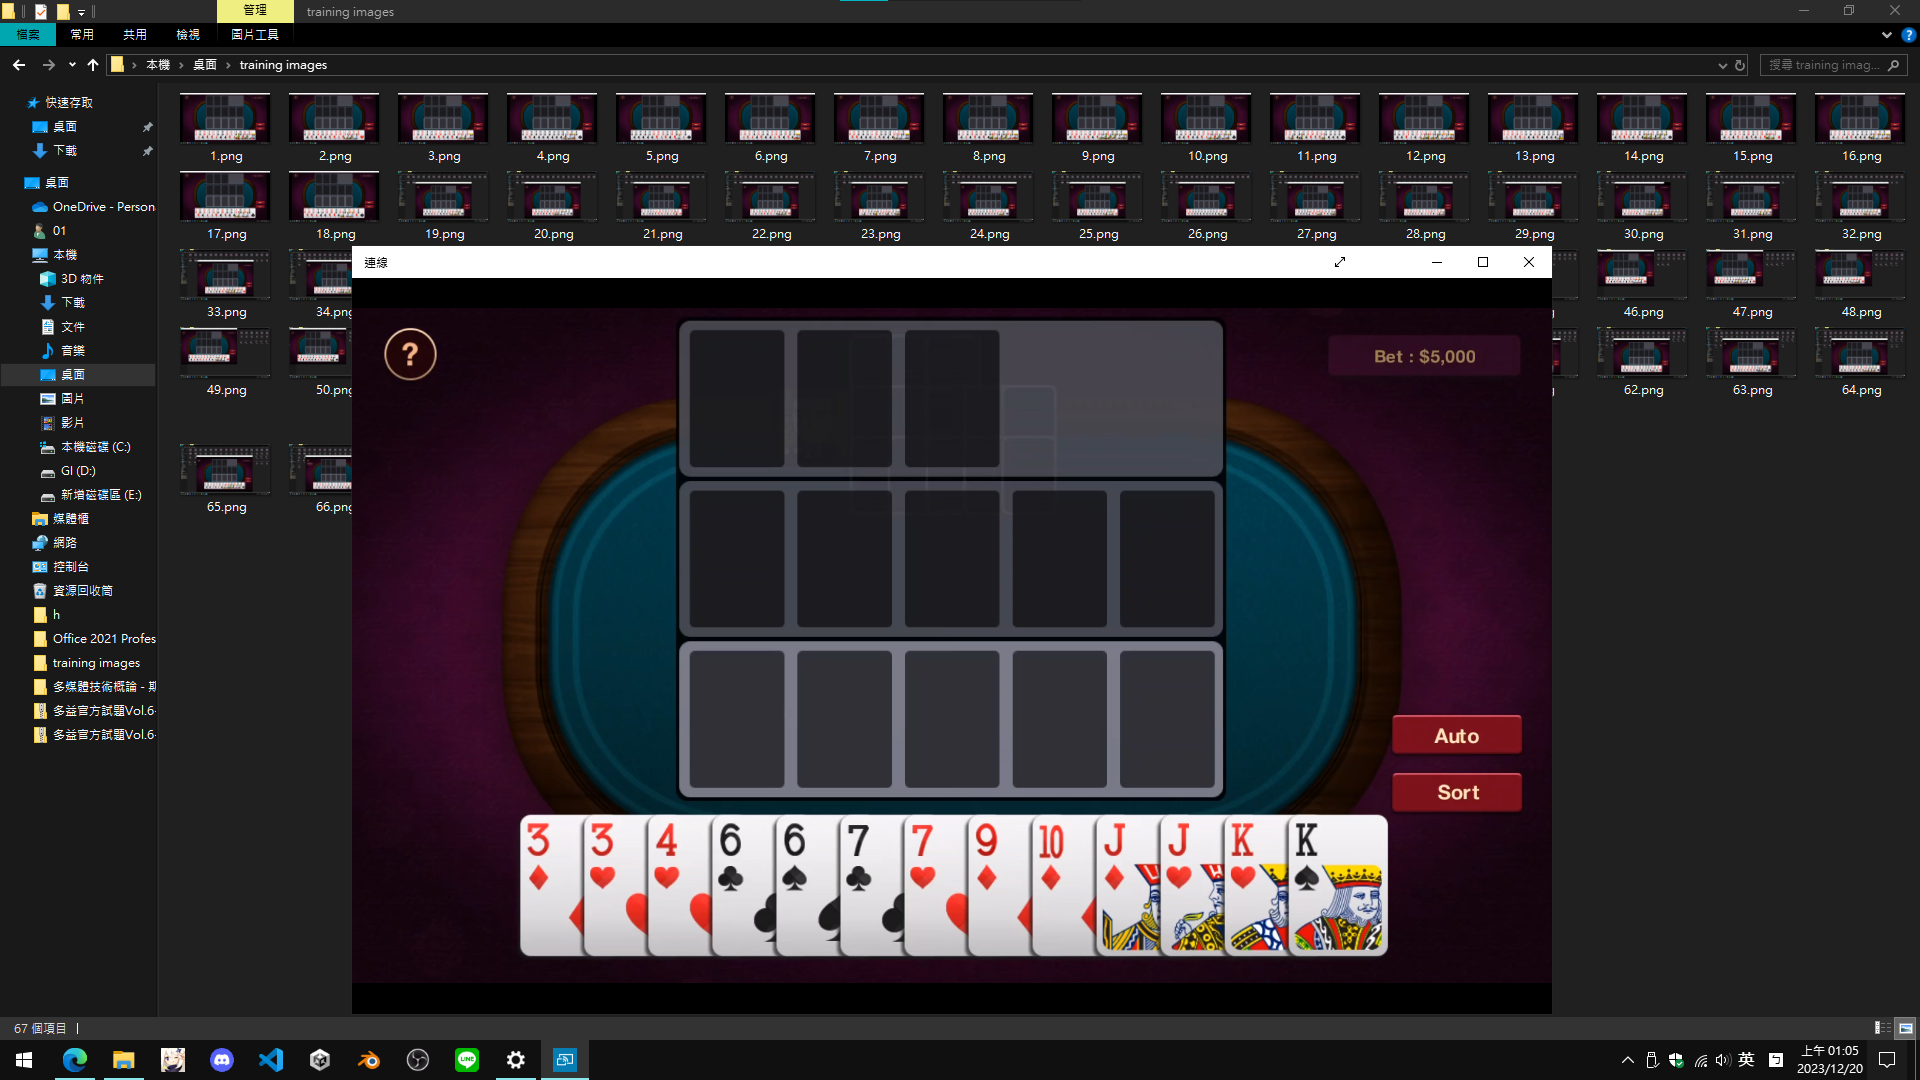10D: (1037, 823, 1064, 893)
3D: (524, 820, 553, 893)
3H: (587, 821, 619, 893)
4H: (651, 820, 684, 893)
6C: (716, 820, 745, 895)
6S: (780, 820, 811, 896)
7C: (845, 820, 873, 895)
7H: (909, 821, 937, 895)
9D: (972, 821, 1001, 896)
JD: (1101, 820, 1129, 893)
JH: (1164, 820, 1195, 895)
KH: (1228, 820, 1257, 891)
KS: (1293, 821, 1323, 896)
